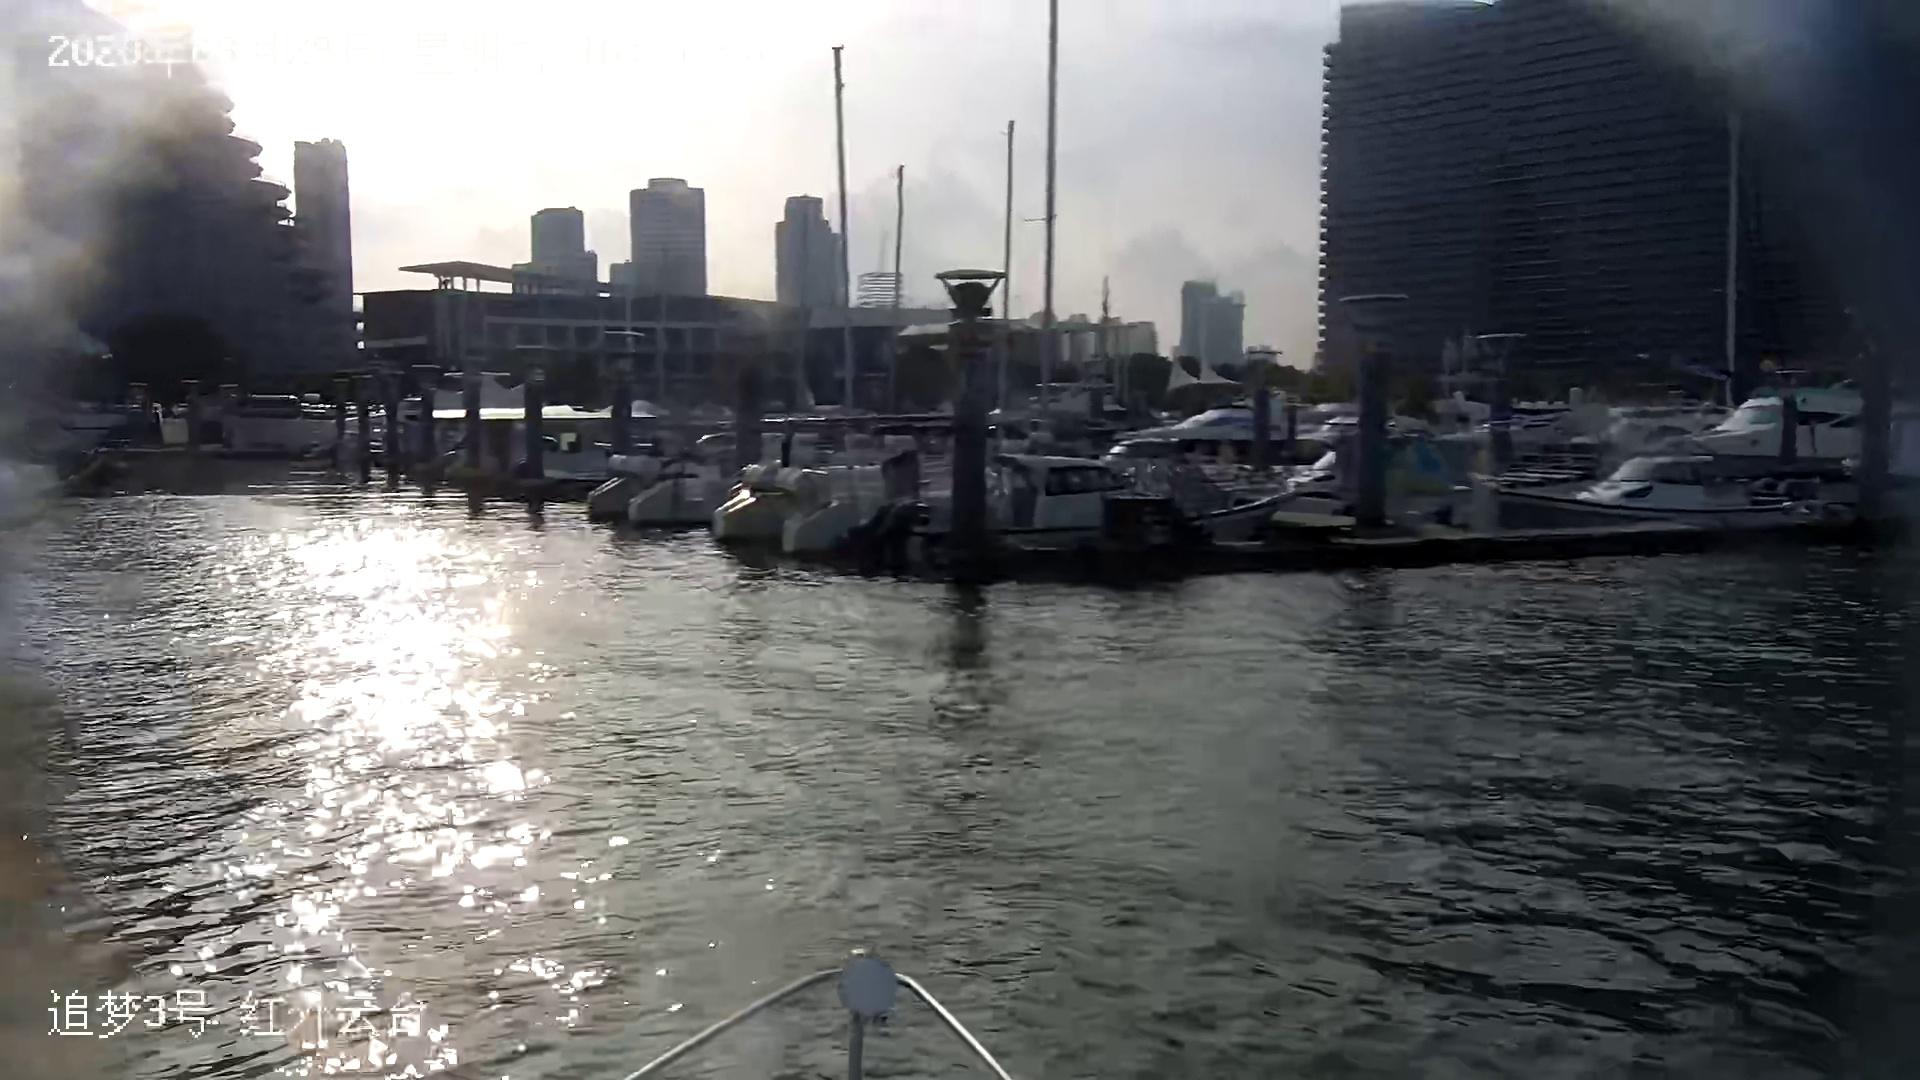coast: (32, 1, 1920, 588)
